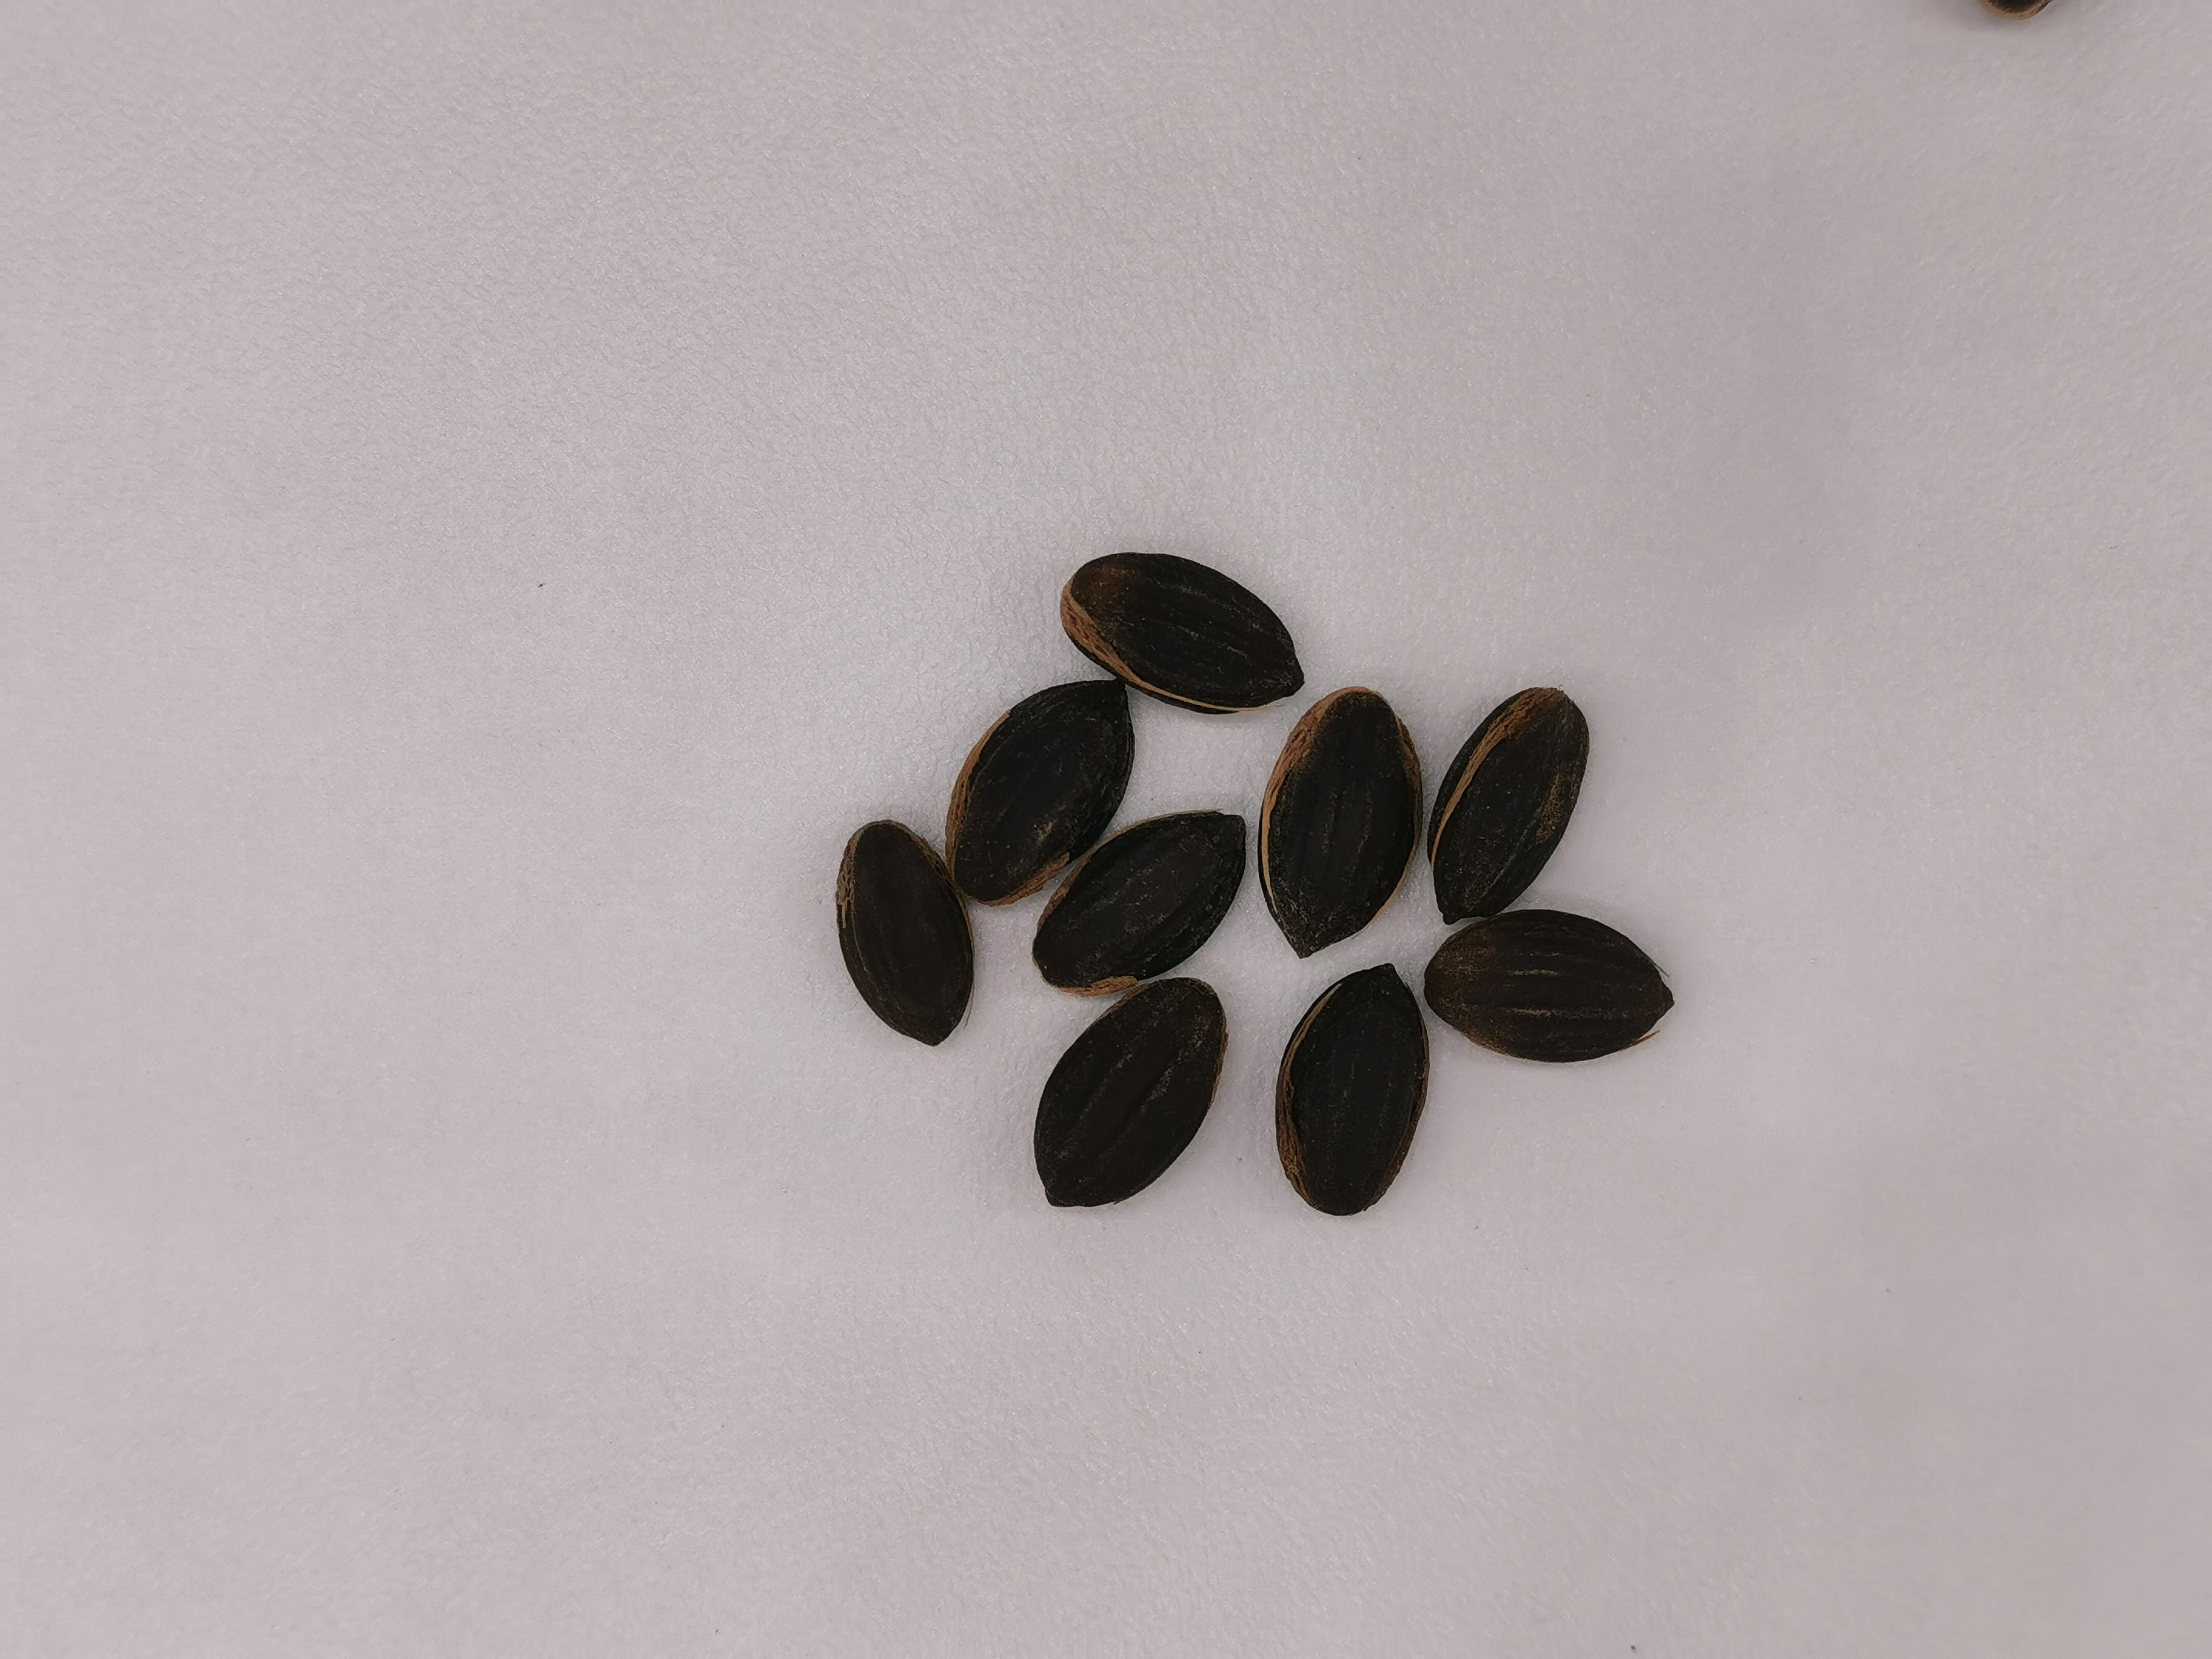seed: (1031, 979, 1230, 1206), (1256, 687, 1420, 960), (948, 678, 1137, 899), (1062, 549, 1308, 716), (1271, 964, 1435, 1215), (1029, 807, 1247, 993), (1428, 906, 1674, 1065), (1430, 683, 1590, 917), (834, 817, 968, 1047)
